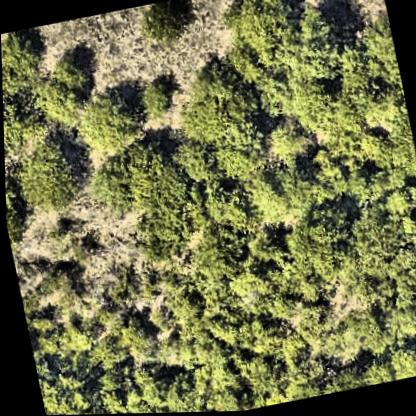tree-top: (303, 109, 416, 208), (160, 48, 263, 152), (86, 136, 194, 222), (327, 9, 405, 119), (278, 200, 362, 289), (5, 134, 86, 216), (361, 226, 416, 343), (22, 51, 97, 131), (238, 163, 323, 233), (277, 1, 346, 87), (217, 0, 302, 69), (71, 84, 145, 161), (179, 216, 252, 291), (256, 57, 333, 128), (100, 360, 175, 414), (35, 362, 103, 416), (210, 131, 274, 186), (1, 26, 50, 95), (202, 180, 257, 235), (132, 0, 191, 51), (338, 303, 390, 358), (261, 120, 314, 171), (4, 164, 36, 244), (236, 350, 280, 401), (175, 140, 218, 189), (116, 309, 155, 359), (132, 77, 175, 122), (2, 87, 33, 144), (380, 339, 416, 382), (379, 186, 413, 220)
